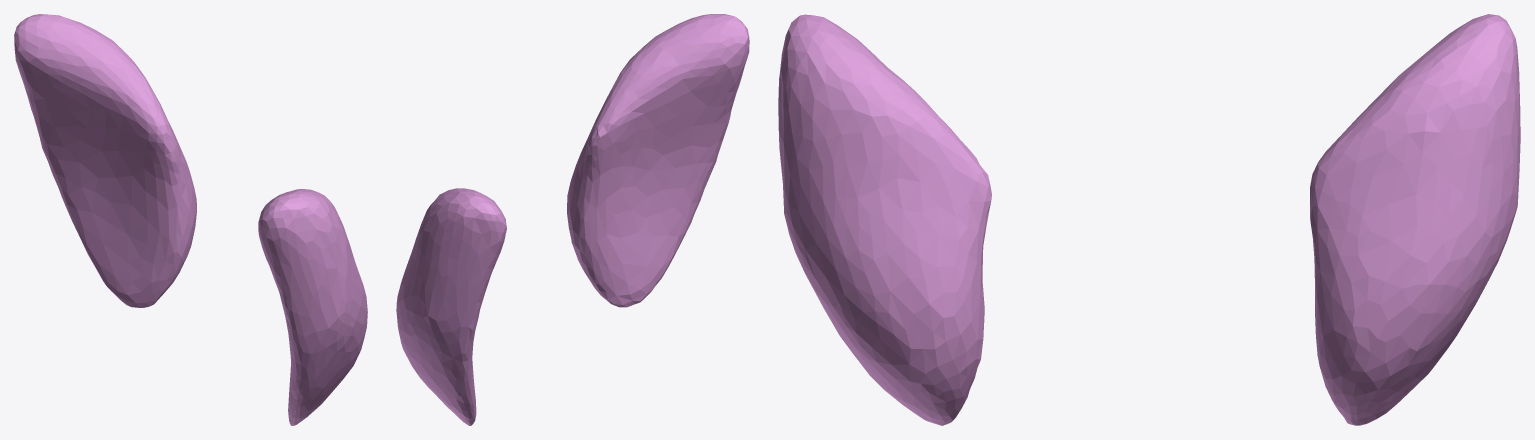
The picture shows the model from 3 angles, left to right: view 1: azimuth 30°, elevation 25°; view 2: azimuth 150°, elevation 25°; view 3: azimuth 270°, elevation 25°; orthographic projection. The views are drawn at different scales.
Visible parts, largest first — view 1: 811.obj; view 2: 811.obj; view 3: 811.obj.
Part boxes in pixels (x1,y1,x2,y2): 811.obj: (14, 14, 367, 425); 811.obj: (396, 14, 749, 425); 811.obj: (778, 14, 1520, 425).
Size of the model in its own units: 994 by 1902 by 3453.
